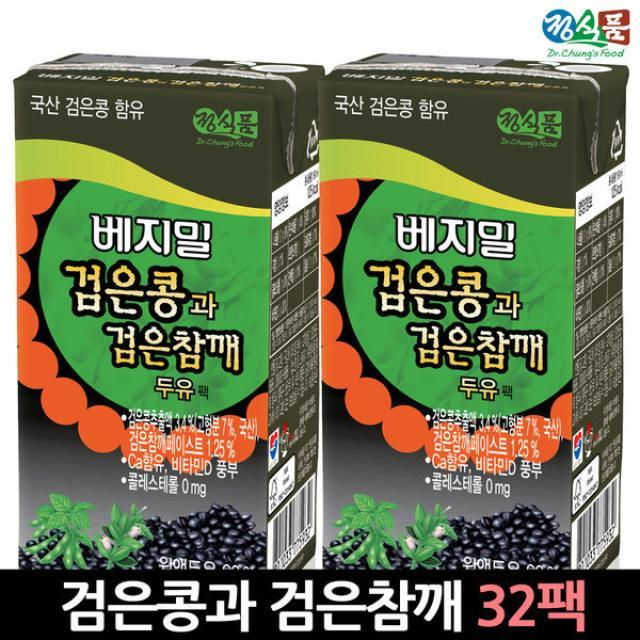Tetra: (0, 28, 320, 570), (320, 50, 636, 572)
